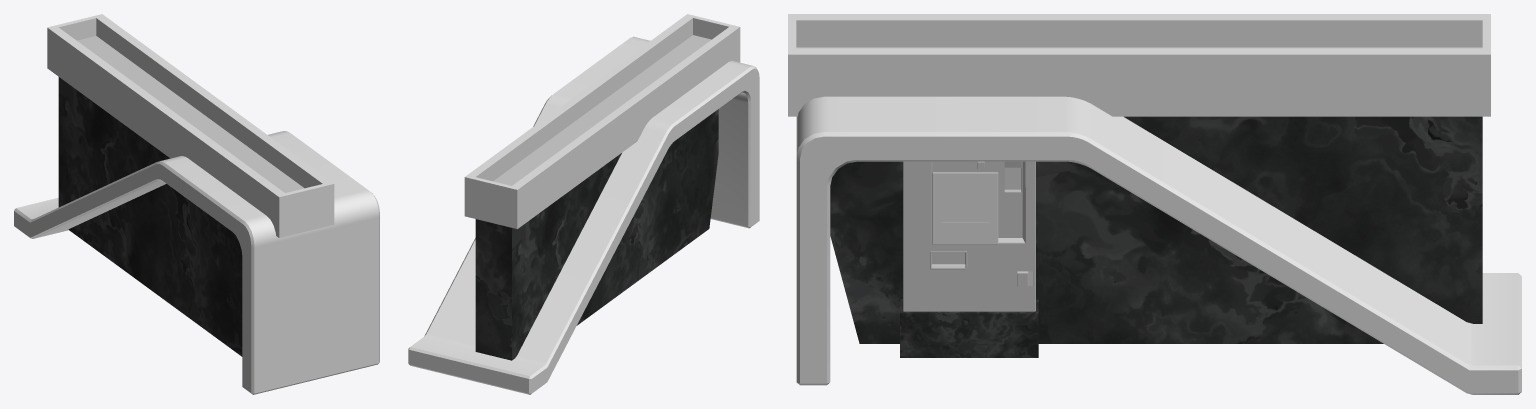
Rendered from MESH_TicketMachine_wide.fbx.
The picture shows the model from 3 angles, left to right: view 1: azimuth 30°, elevation 25°; view 2: azimuth 150°, elevation 25°; view 3: azimuth 270°, elevation 25°; orthographic projection. The views are drawn at different scales.
Visible parts, largest first — view 1: Cube.001; view 2: Cube.001; view 3: Cube.001, Cube.020.
Boxes of the visible parts, left/top/right/bottom form: Cube.001: left=14, top=14, right=379, bottom=394; Cube.001: left=408, top=14, right=759, bottom=394; Cube.001: left=788, top=14, right=1521, bottom=394; Cube.020: left=900, top=161, right=1038, bottom=357.
Size of the model in its own units: 192 by 286 by 624.
